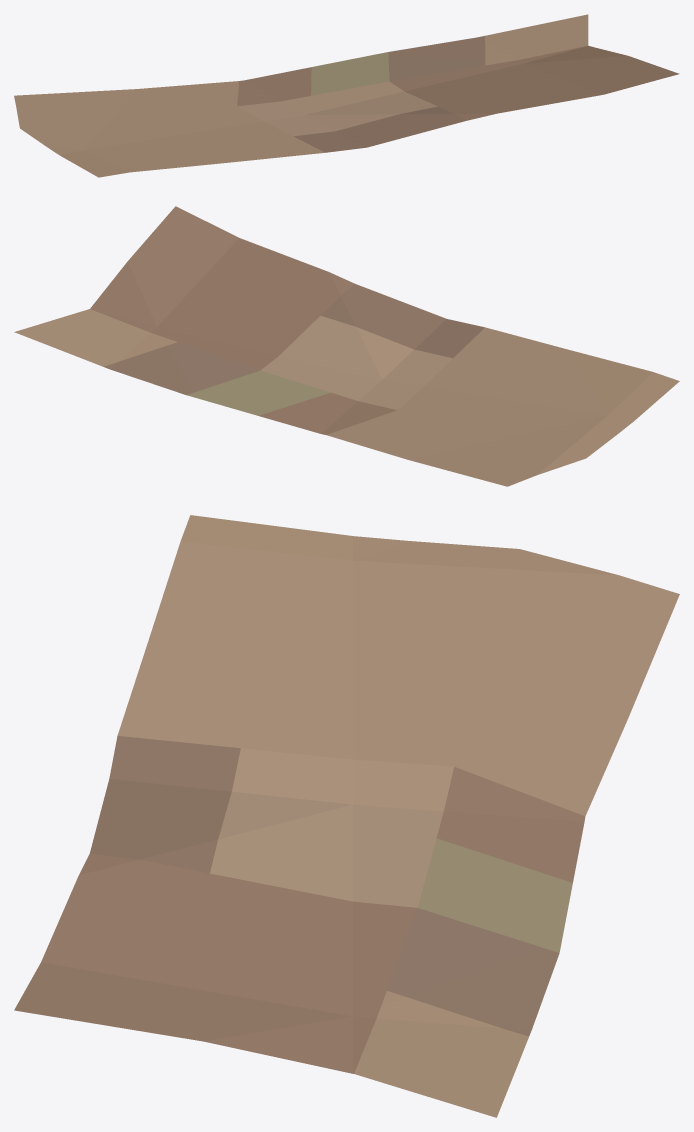
Rendered from farm_2_22_soil.glb.
3 renders of one model, top to bottom at view 1: azimuth 30°, elevation 25°; view 2: azimuth 150°, elevation 25°; view 3: azimuth 270°, elevation 25°, orthographic. The views are drawn at different scales.
Visible parts, largest first — view 1: geometry_0; view 2: geometry_0; view 3: geometry_0.
Boxes of the visible parts, box(x1,y1,x2,y2) form: geometry_0: box(14, 14, 679, 177); geometry_0: box(14, 206, 679, 486); geometry_0: box(14, 515, 679, 1117).
Bounding box in the file's own units: 208 × 15.39 × 109.
